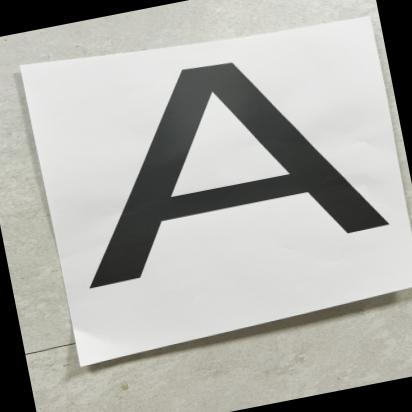seat: (43, 25, 398, 293)
